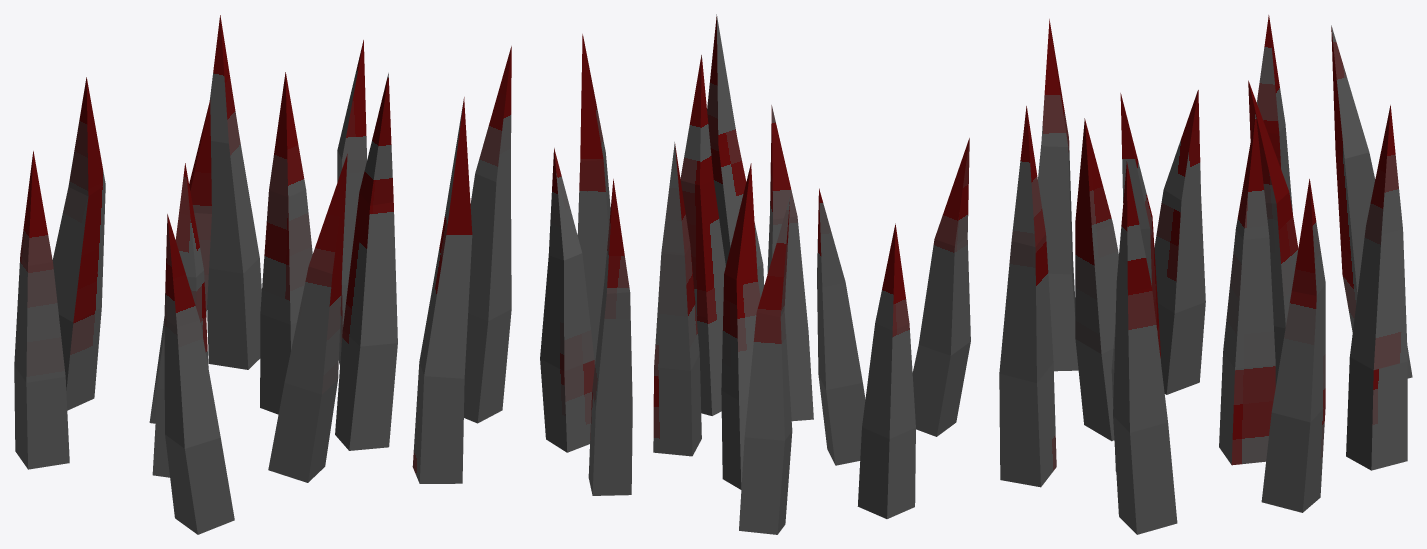
File: Low-Poly_Spikes.obj
The picture shows the model from 3 angles, left to right: view 1: azimuth 30°, elevation 25°; view 2: azimuth 150°, elevation 25°; view 3: azimuth 270°, elevation 25°; orthographic projection. The views are drawn at different scales.
Visible parts, largest first — view 1: Cube.005; view 2: Cube.005; view 3: Cube.005.
Boxes of the visible parts, x1=… form: Cube.005: x1=14, y1=15, x2=511, y2=534; Cube.005: x1=540, y1=14, x2=970, y2=534; Cube.005: x1=999, y1=15, x2=1412, y2=534.
Size of the model in its own units: 3.26 by 2.77 by 2.69.
Materials: 1 (1 with a texture image).
